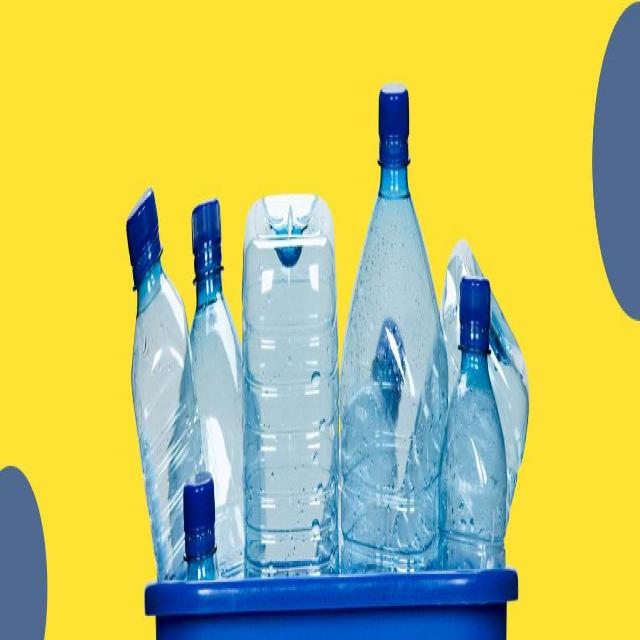plastic_bottle: (327, 70, 454, 609), (236, 173, 343, 610), (112, 122, 208, 588), (427, 225, 538, 627), (174, 175, 257, 583), (436, 259, 513, 625), (179, 457, 226, 606)
